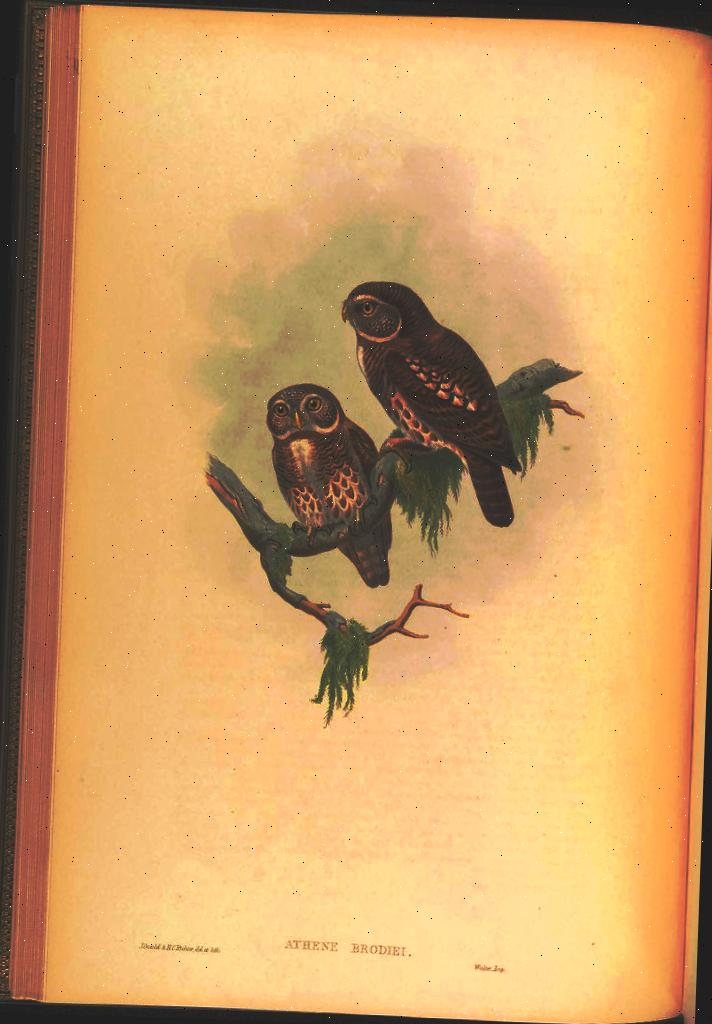Owl: (329, 275, 531, 530), (261, 382, 399, 590)
